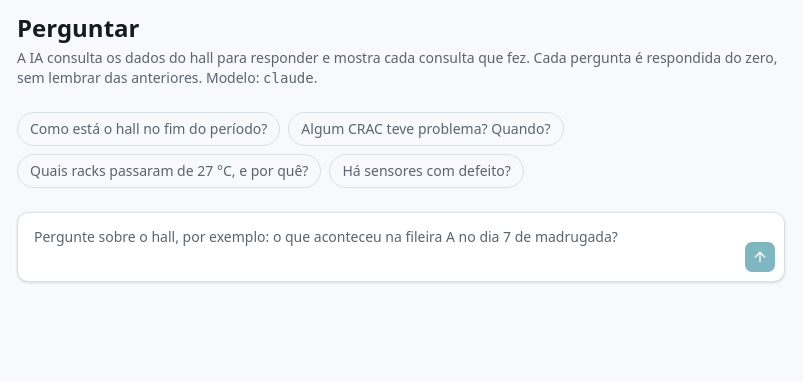
Scenario: Perguntar › explica o limite de uso
Replace the text in the text box named "Sua pergunta" with "Quantos racks?". click: (381, 247)
box: left=26, top=221, right=736, bottom=273
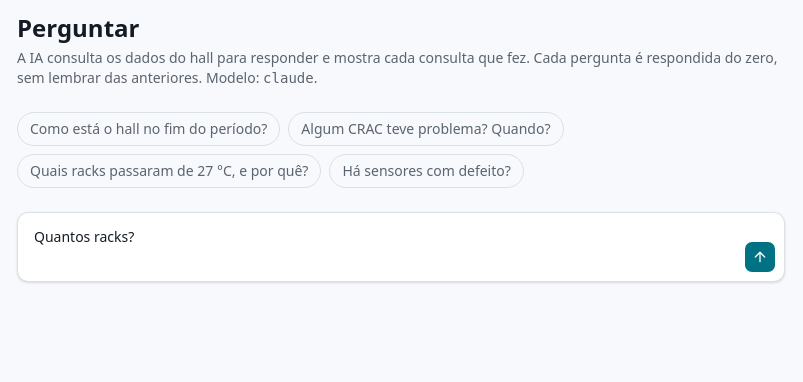
Click the button named "Enviar pergunta". click: click(760, 257)
box: left=744, top=241, right=776, bottom=273
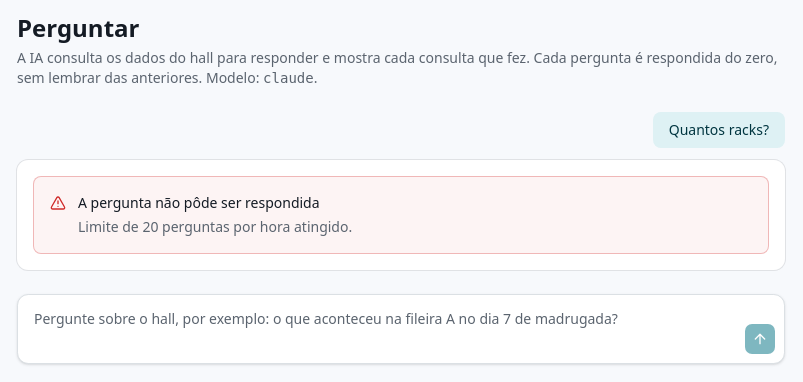
Result: the text "Limite de 20 perguntas por hora atingido." is shown at left=78, top=217, right=352, bottom=237
